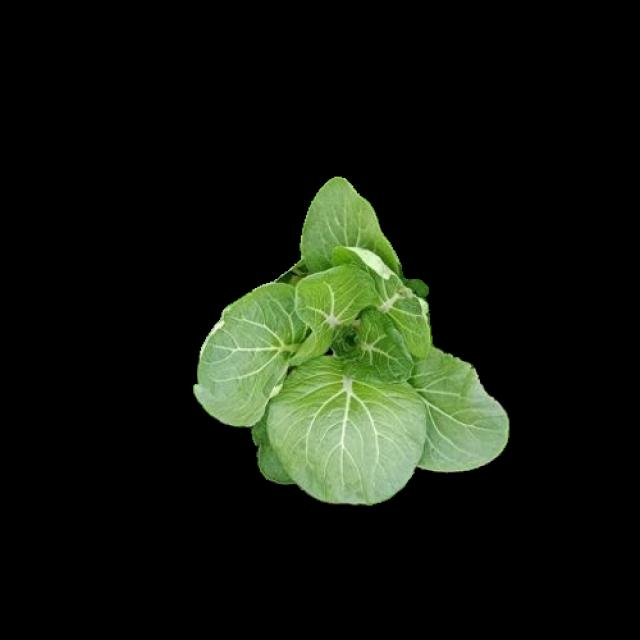healthy: (190, 174, 506, 503)
not-mature: (193, 177, 508, 506)
